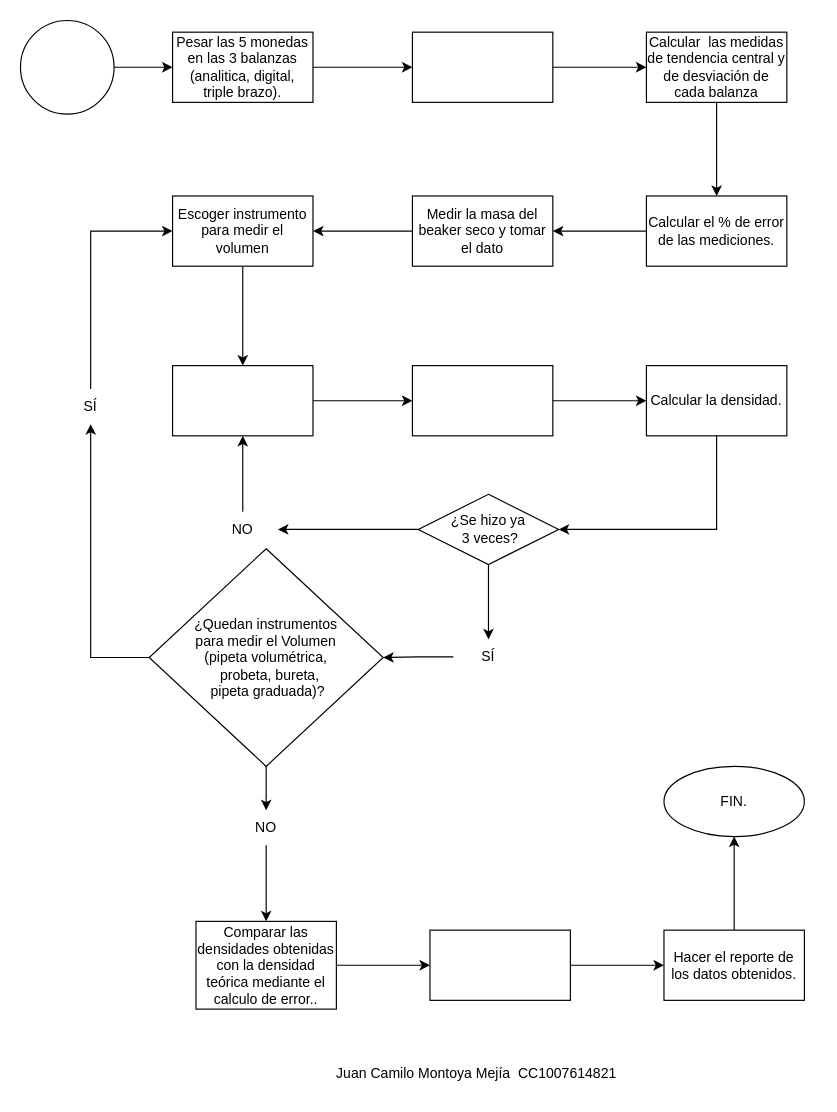
Some shapes in this 837 by 1112 pixel diagram are drawn without their labels. The shapes that lost their labels are listed below. From the top down, each one's centre as x and y in pixels, then its label:
[66,66]: INICIO
[482,66]: Tomar los datos con la respectiva incertidumbre
[242,400]: Llenar el beaker con 5 o 10 ml de agua destilada.
[482,400]: medir la masa de el agua.
[499,964]: Realizar las debidas conclusiones del experimento.
